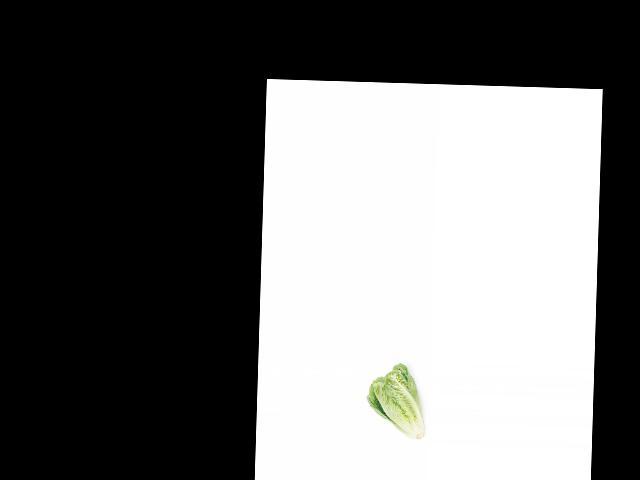lettuce: (366, 362, 428, 444)
